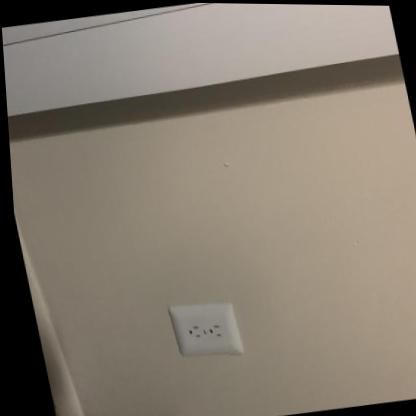OUTLET: (168, 301, 242, 360)
